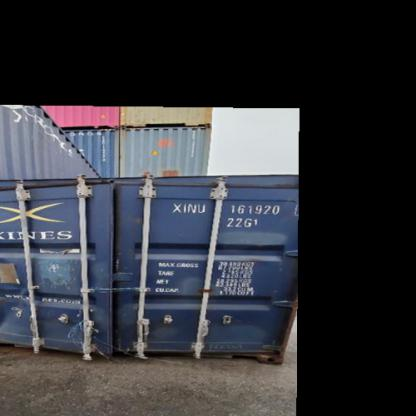Damage: (58, 308, 115, 348), (28, 255, 80, 289)
